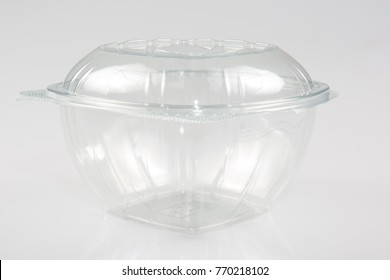PlasticBox: (13, 35, 342, 238)
